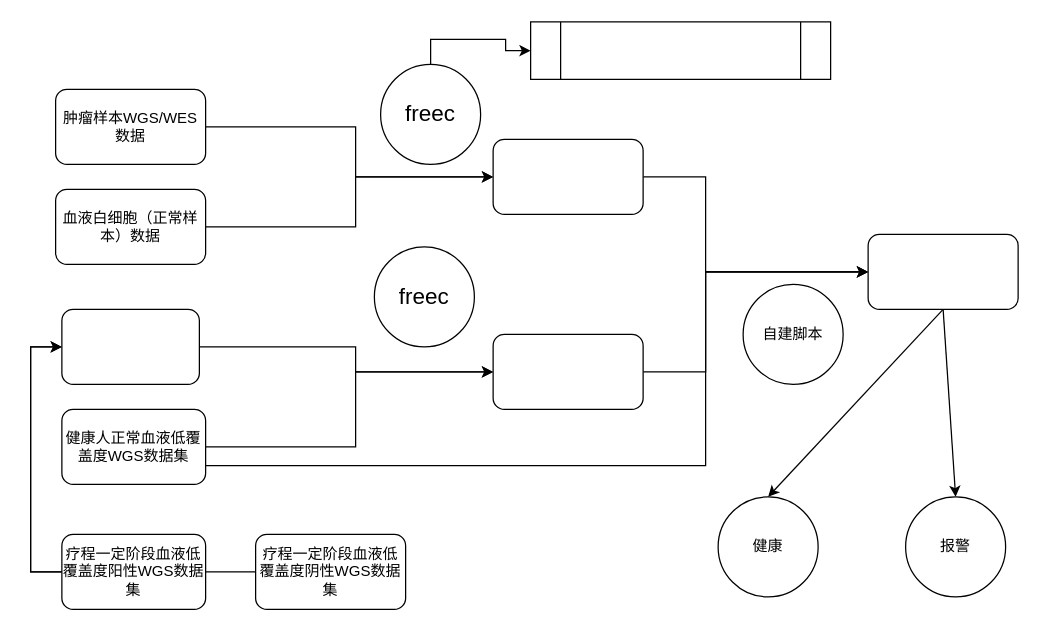
Image size: 1040x631. Some labels were removed from this diagram. Here are the shapes that lost their labels. From the top down, the box of each, then its label:
(529, 21, 831, 79): gc 矫正/tangent矫正？
(492, 138, 643, 214): 个人肿瘤组织强特征CNV
(867, 233, 1018, 309): 个人特征CNV及分值分布
(61, 308, 199, 384): 疗程开始血液低覆盖度WGS数据
(492, 333, 643, 409): 疗程开始个人血液特征CNV
